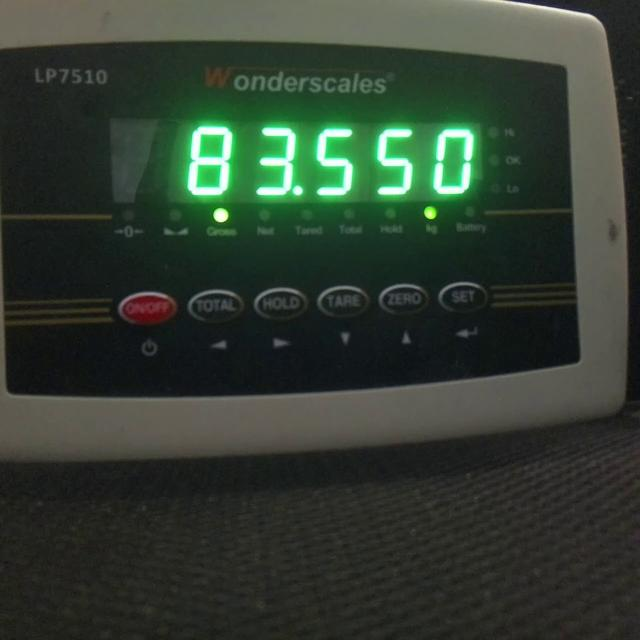.: (292, 185, 304, 198)
0: (434, 128, 475, 195)
3: (255, 126, 296, 196)
5: (314, 126, 354, 196), (374, 127, 414, 195)
8: (187, 124, 233, 196)
